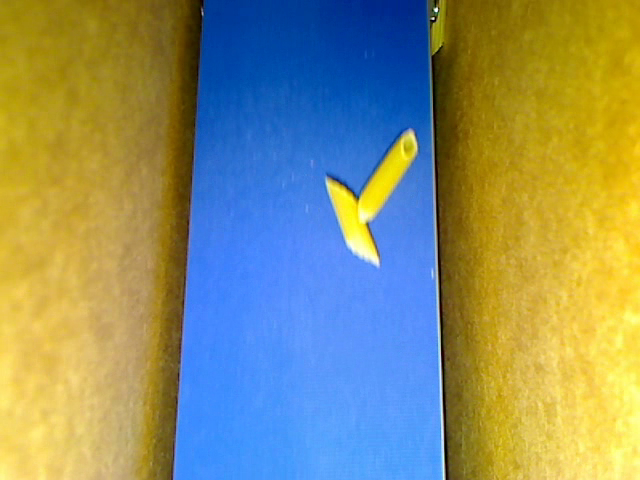penne: (357, 125, 416, 222), (324, 173, 378, 268)
